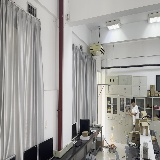fire: (109, 125, 114, 147)
